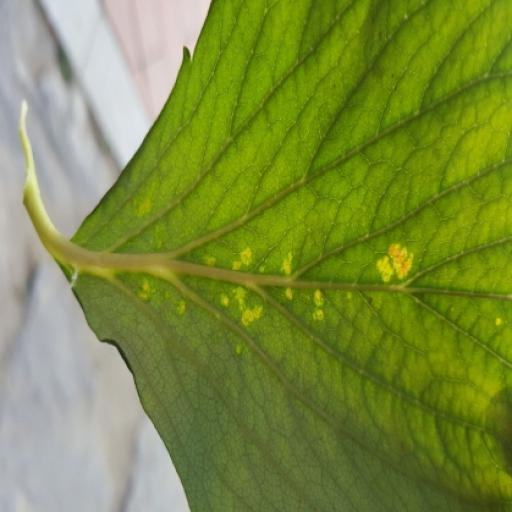Angular Leafspot: (5, 239, 385, 356)
